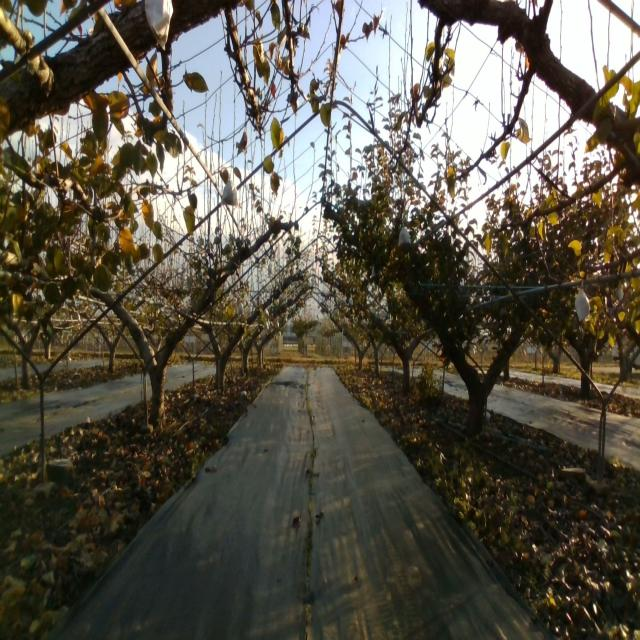pearbags: (143, 0, 174, 51), (220, 176, 239, 208), (574, 288, 591, 322), (397, 227, 411, 248)
